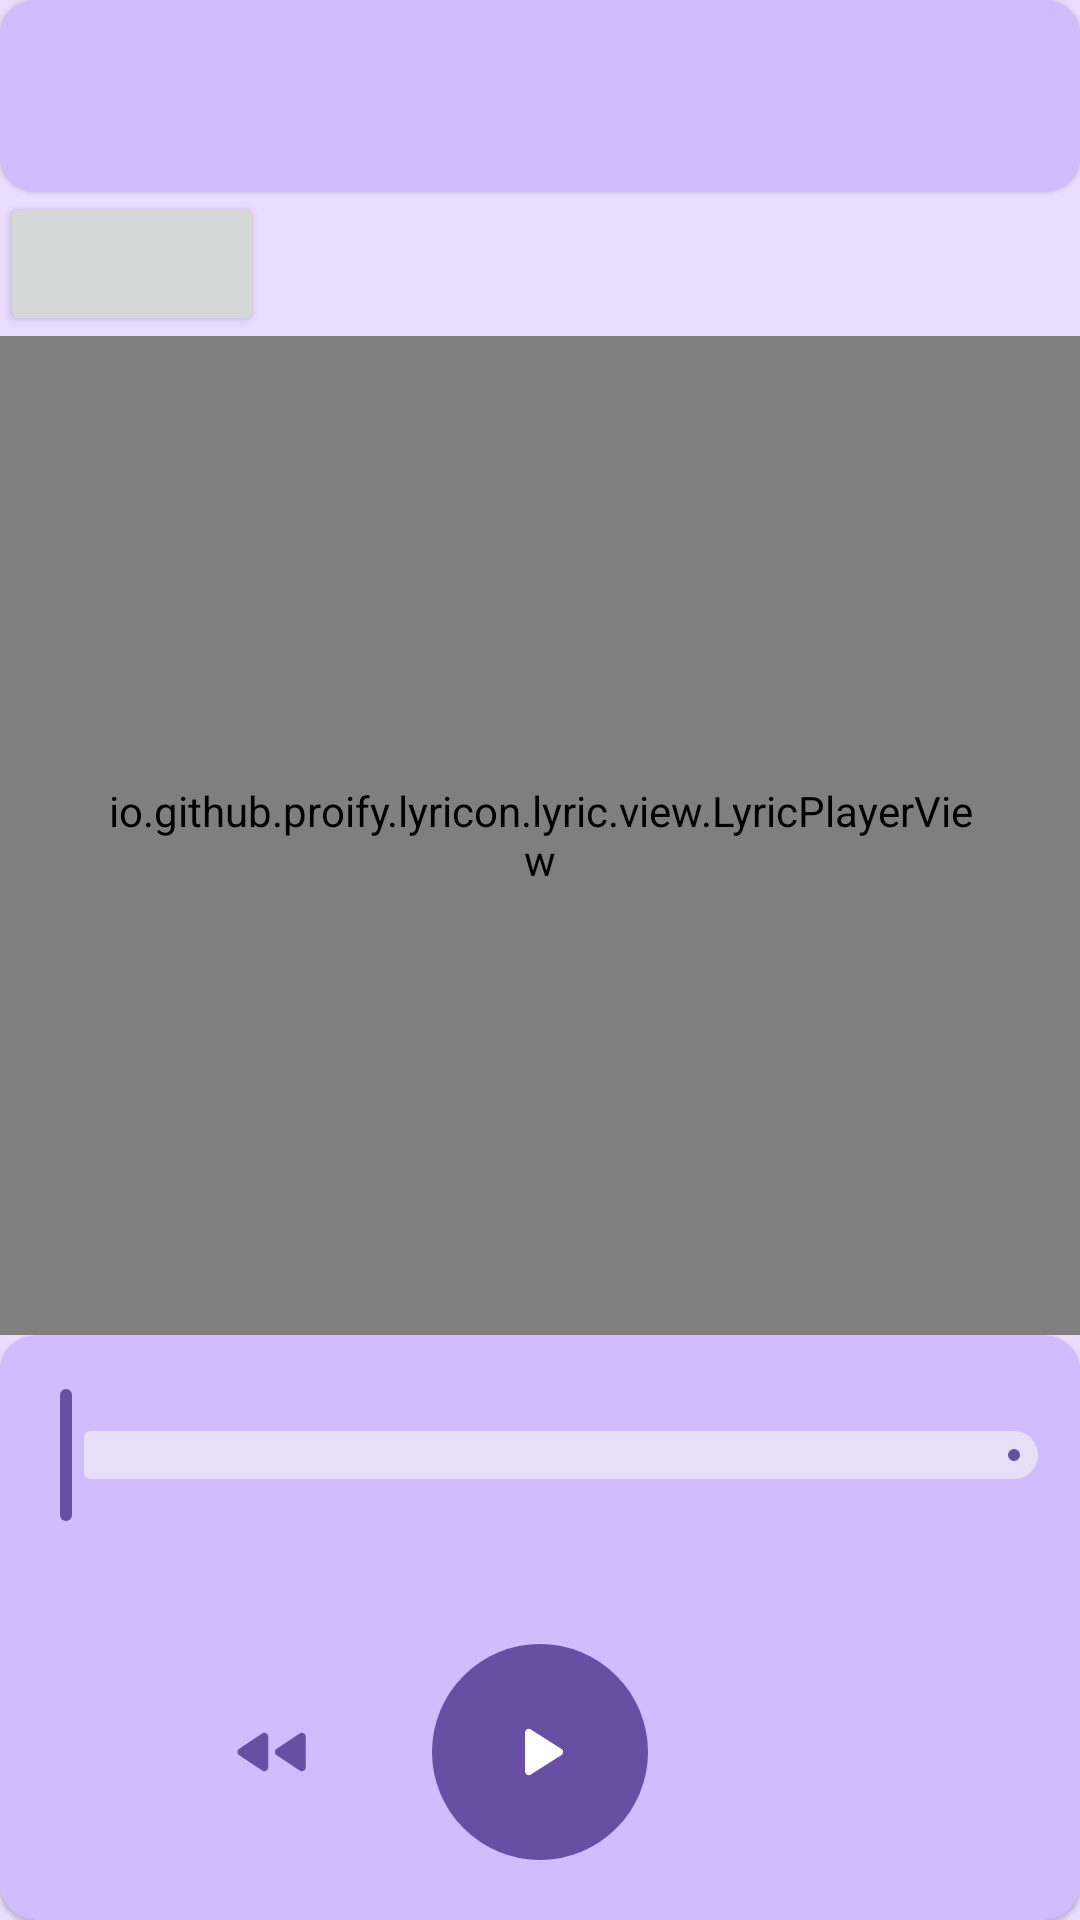

Named icons in this screenshot (1080w x 1920h) and their centers, (x,y):
fast rewind: (271,1752)
play arrow: (540,1752)
